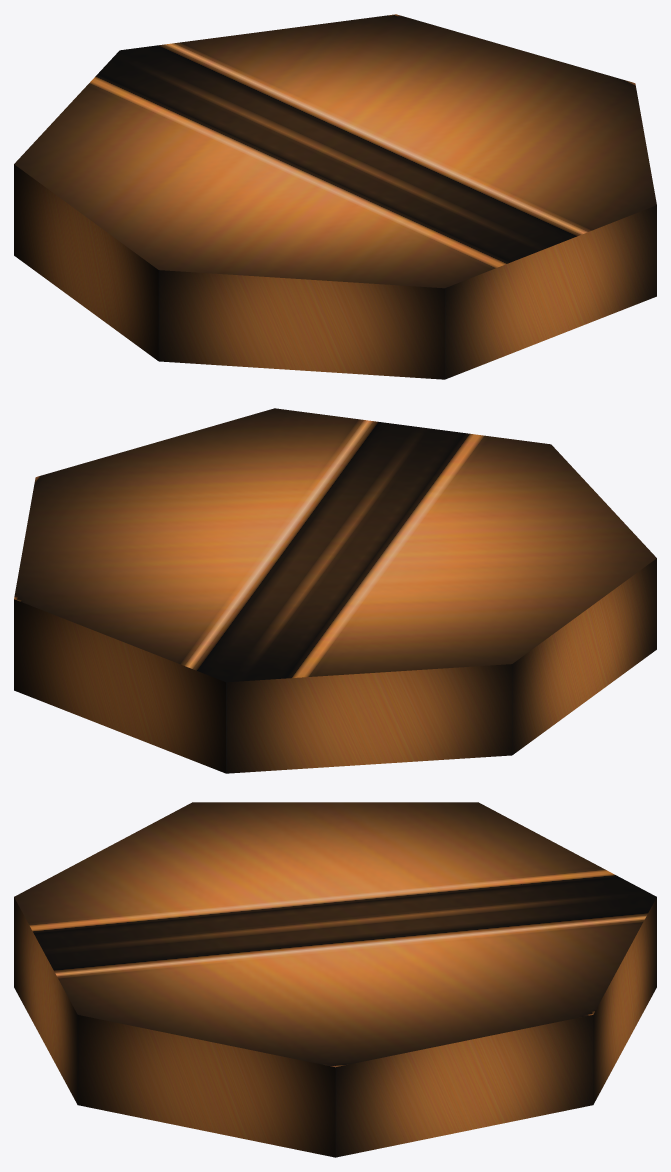
Rendered from Norris_Maze_Copper_Bolt.fbx.
3 renders of one model, top to bottom at view 1: azimuth 30°, elevation 25°; view 2: azimuth 150°, elevation 25°; view 3: azimuth 270°, elevation 25°, orthographic.
Visible parts, largest first — view 1: Bolt; view 2: Bolt; view 3: Bolt.
Part boxes in pixels (x1,y1,x2,y2): Bolt: [14, 14, 656, 379]; Bolt: [14, 408, 656, 773]; Bolt: [14, 802, 656, 1157].
Bounding box in the file's own units: 2.13 × 0.3386 × 2.18.
